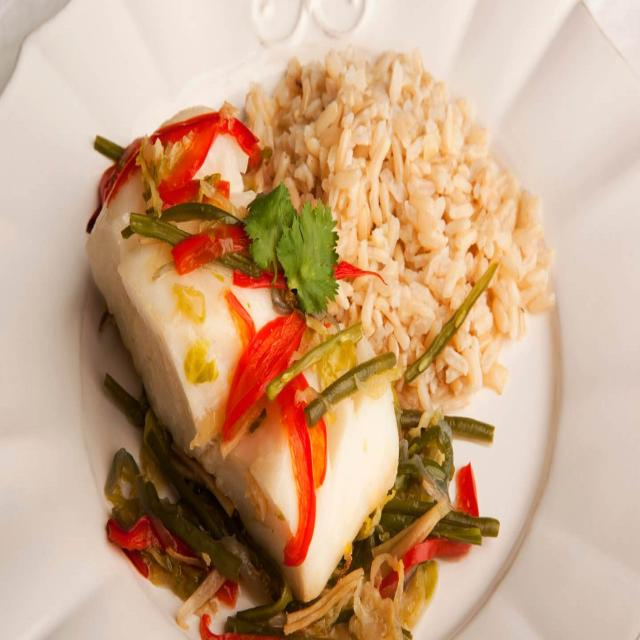arroz: (260, 12, 594, 423)
